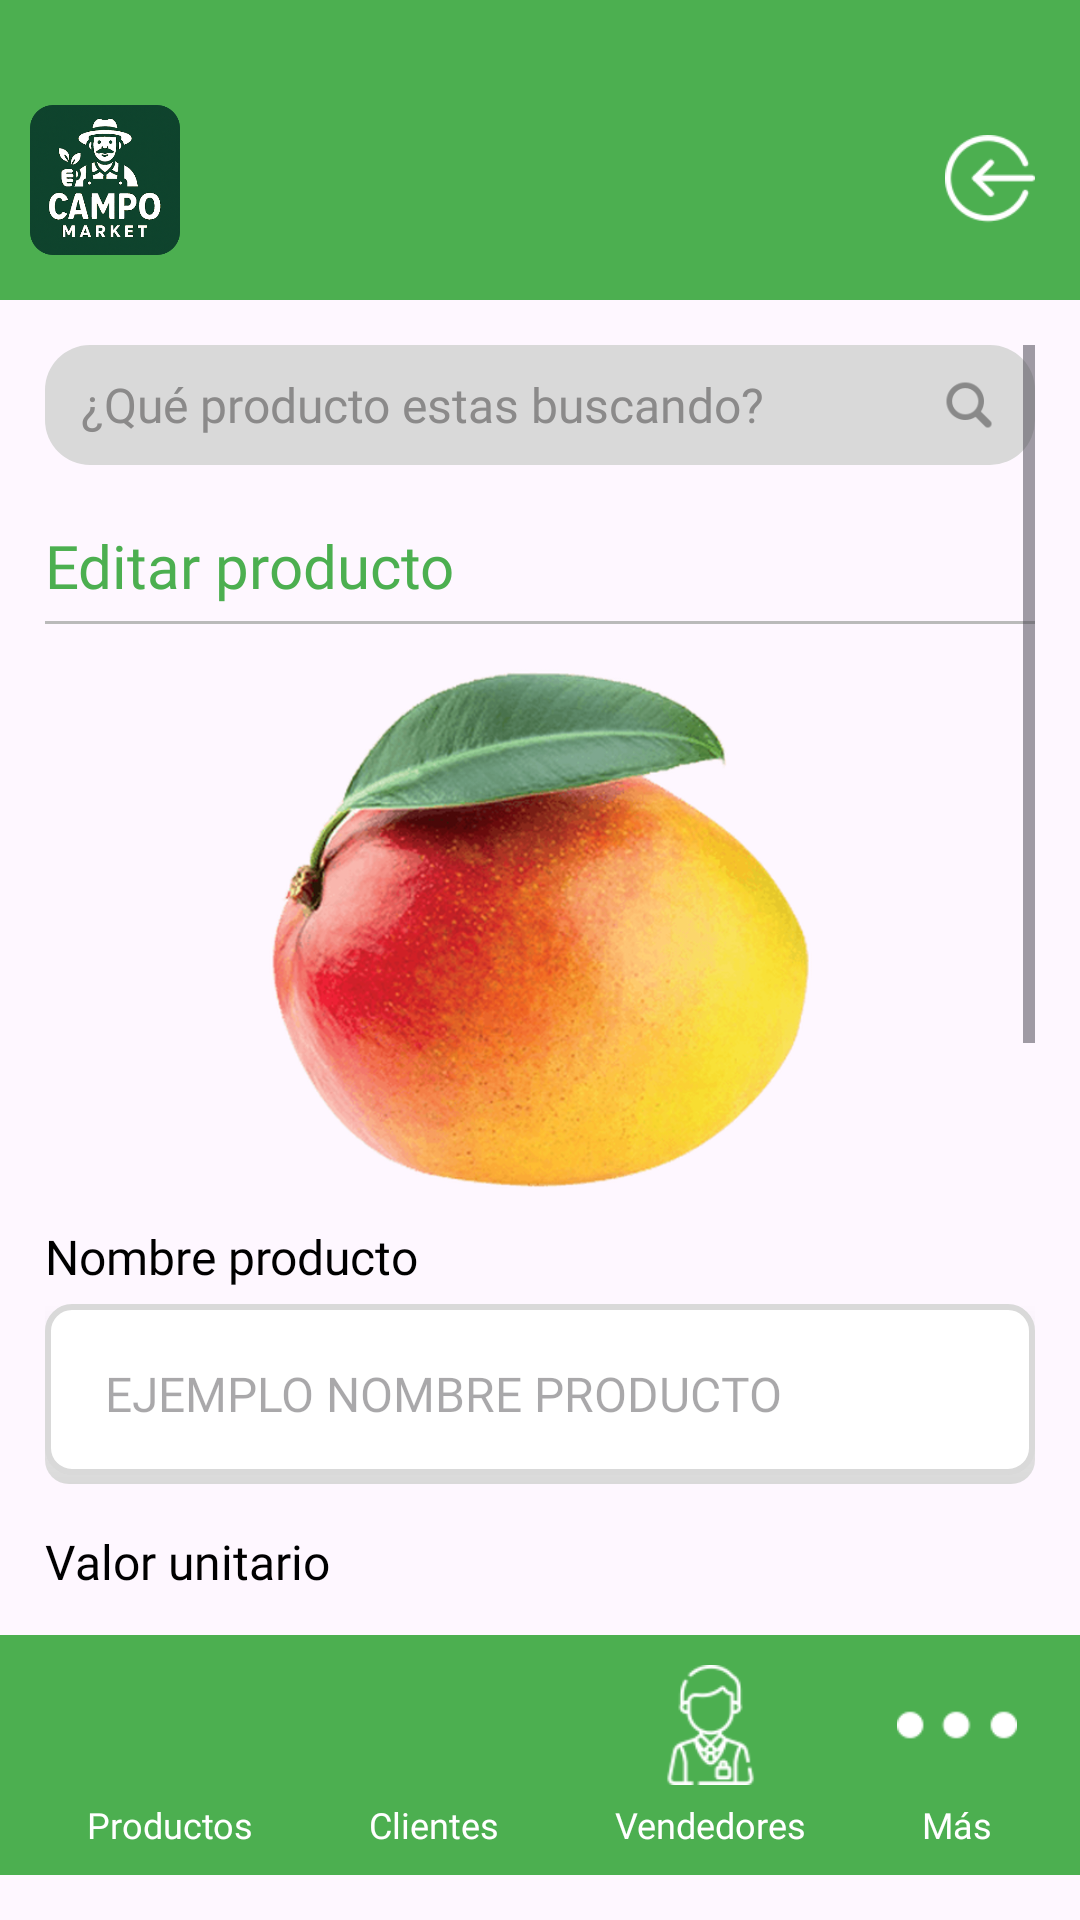

Icons on this 1080 x 1920 Android screen, each with its box as (x1, y1, x2, y2):
lupa: (946, 382, 992, 428)
salir: (945, 135, 1035, 222)
